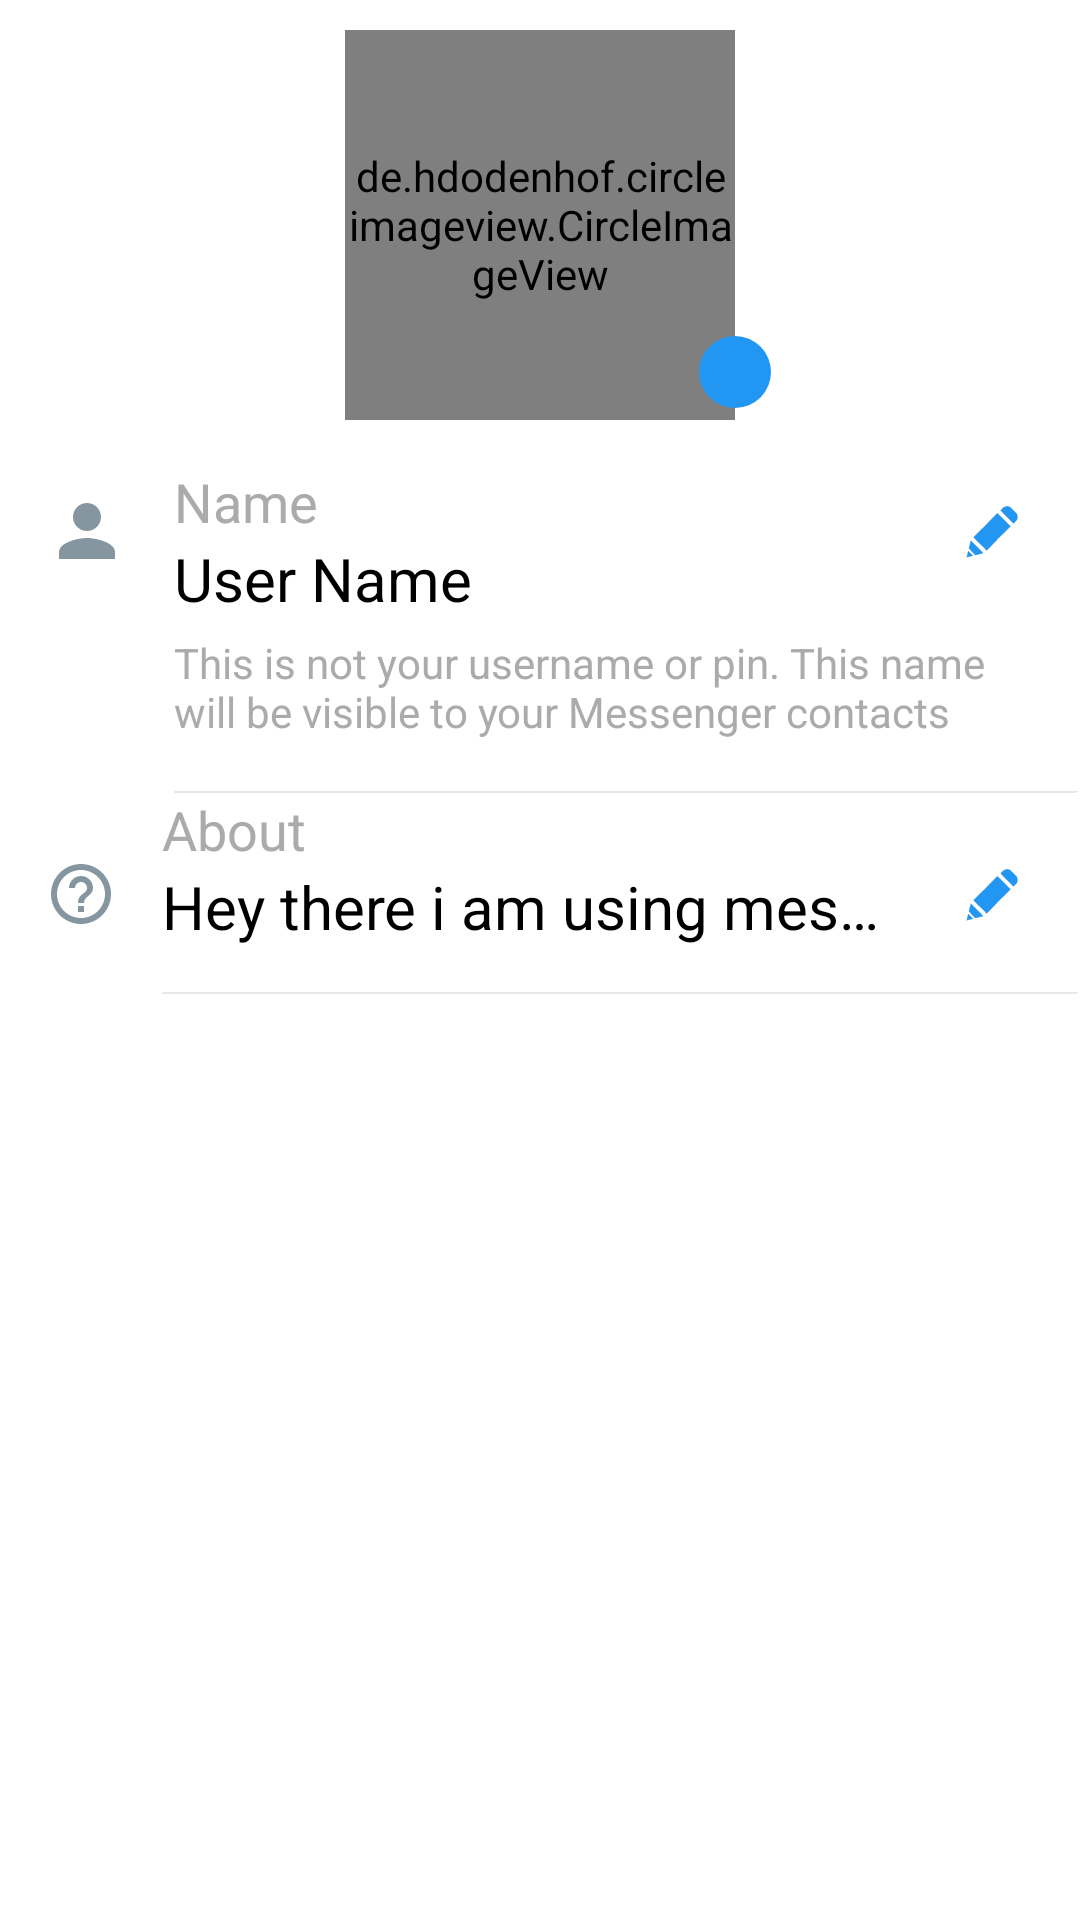

Screen size 1080×1920. Icon name, then its center in pixels as [x,y]:
help: [81,894]
pencil: [992,532], [992,895]
person: [87,531]
